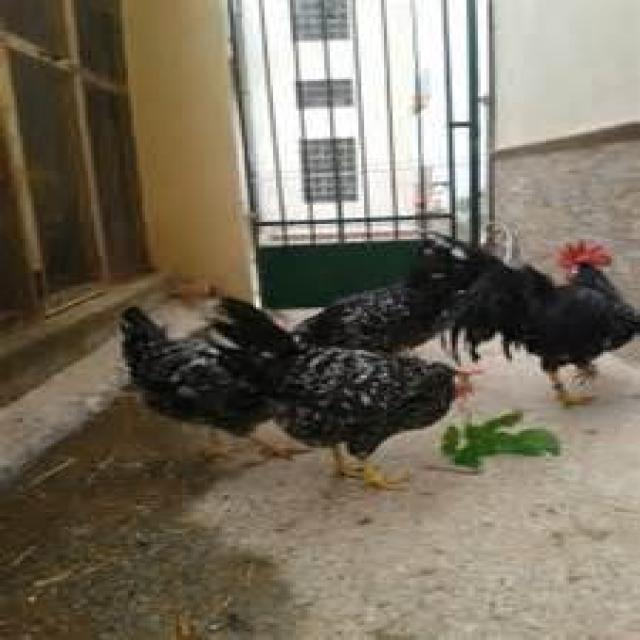chicken: (196, 294, 481, 488), (418, 228, 637, 408), (114, 303, 310, 465)
